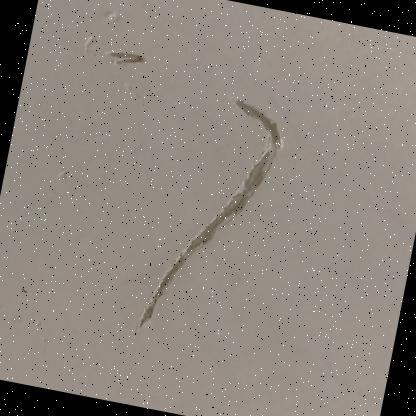Crack: (0, 0, 344, 381)
